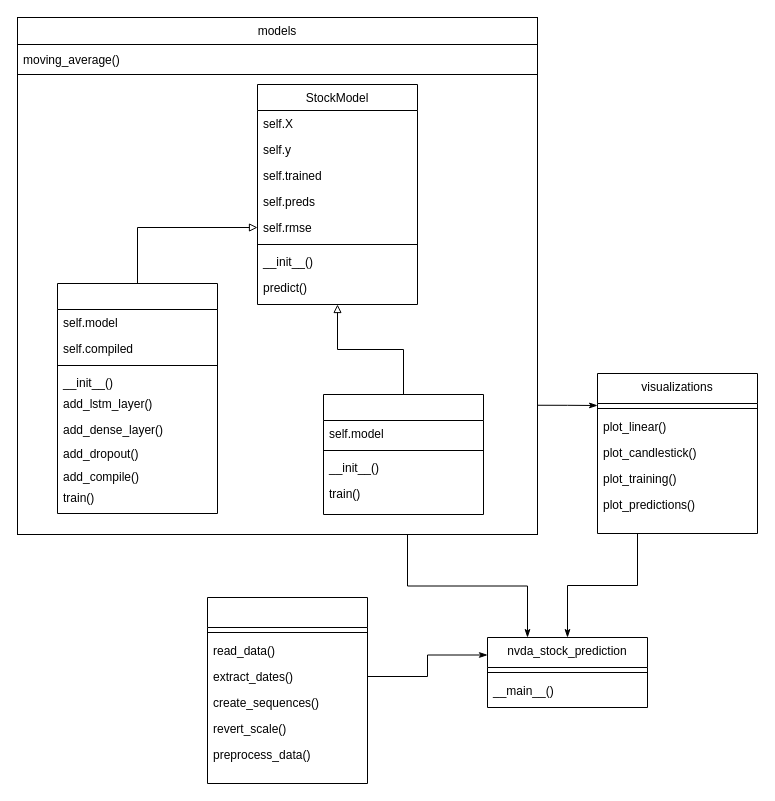
The diagram is 775 pixels wide and 801 high, and some of its shapes have lost their labels. The shapes that lost their labels are listed below. From the top down, each one's box as (x1, y1, x2, y2) in pixels, then its label:
(56, 282, 218, 514): StockLSTM
(322, 394, 484, 514): StockLinReg
(206, 596, 368, 784): data_handling
